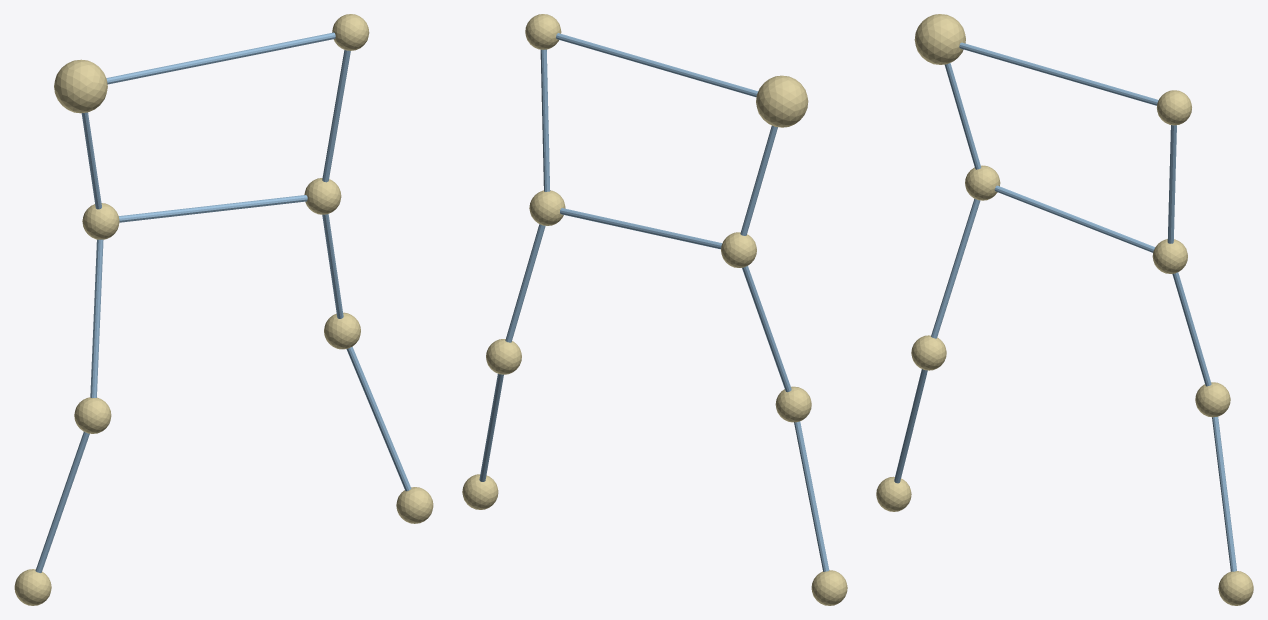
File: gemeos.glb
3 views of the same model, side by side, from view 1: azimuth 30°, elevation 25°; view 2: azimuth 150°, elevation 25°; view 3: azimuth 330°, elevation 25° (orthographic). The views are drawn at different scales.
Parts seen in each view (by area): view 1: world; view 2: world; view 3: world.
Part boxes in pixels (bbox=[...]): world: bbox=[14, 14, 433, 605]; world: bbox=[462, 14, 847, 605]; world: bbox=[876, 14, 1253, 605].
Size of the model in its own units: 2.5 by 3.14 by 0.4614.
